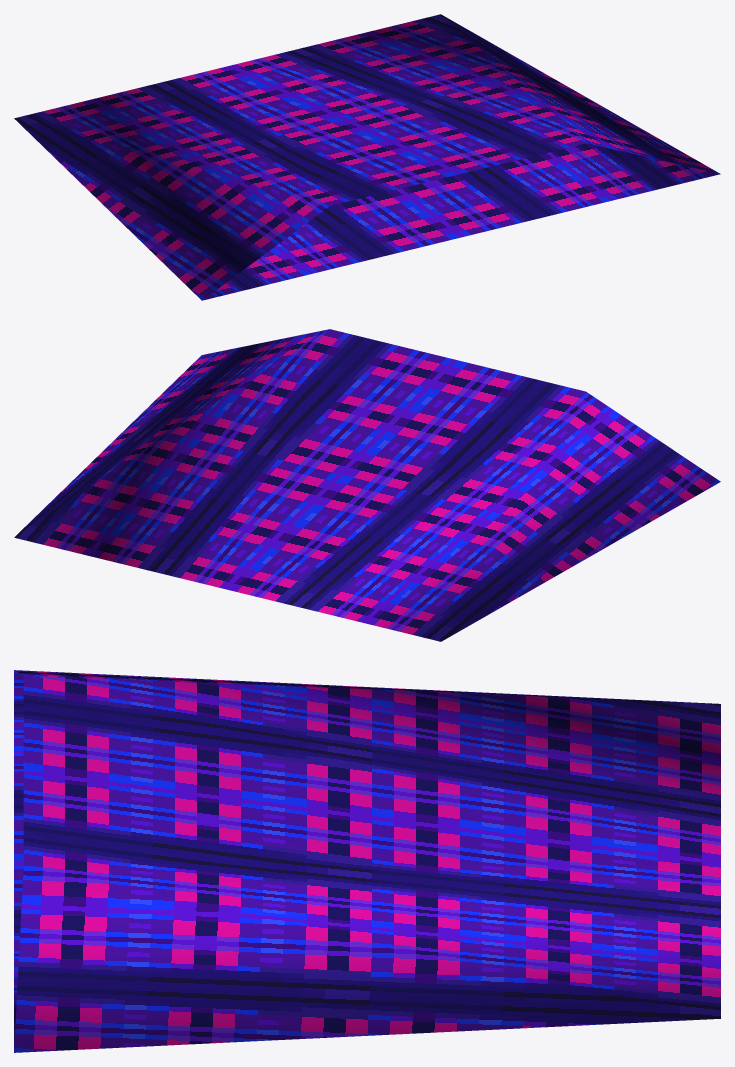
File: 2328skirt00_c.gltf
The picture shows the model from 3 angles, top to bottom: view 1: azimuth 30°, elevation 25°; view 2: azimuth 150°, elevation 25°; view 3: azimuth 270°, elevation 25°; orthographic projection. The views are drawn at different scales.
Parts seen in each view (by area): view 1: 2328skirt00_c; view 2: 2328skirt00_c; view 3: 2328skirt00_c.
Part boxes in pixels (x1,y1,x2,y2): 2328skirt00_c: [14, 14, 720, 300]; 2328skirt00_c: [14, 329, 720, 641]; 2328skirt00_c: [14, 670, 720, 1052].
Size of the model in its own units: 0.7896 by 0.0879 by 0.6162.
1 material, 1 textured.
